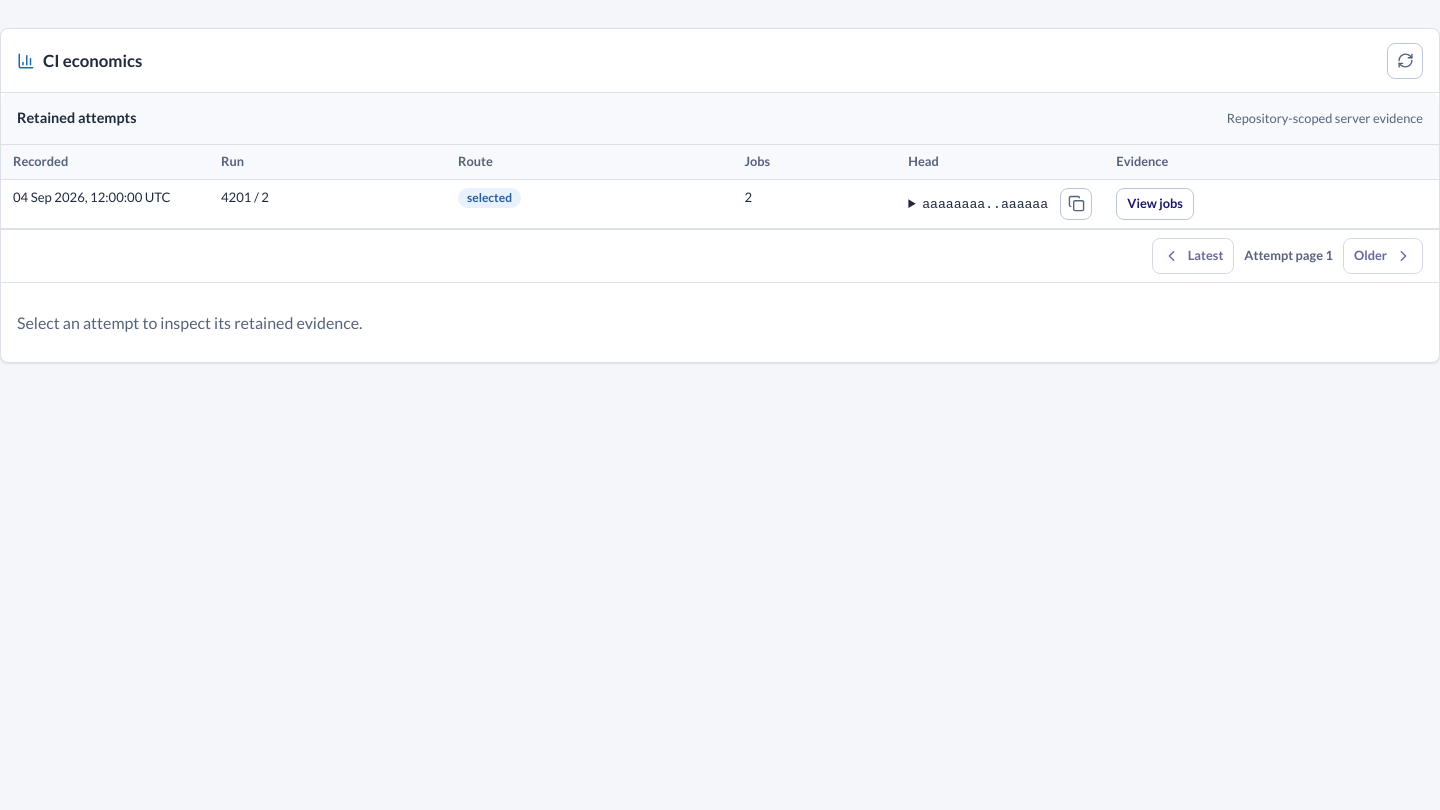
Scenario: shows only server-projected economics and fetches jobs on demand
The width and height of the screenshot is (1440, 810).
Check: the text "Backend tests" is not shown
Click the button with aria-label "View jobs for run 4201" at [1155, 204], box [1116, 188, 1194, 220]
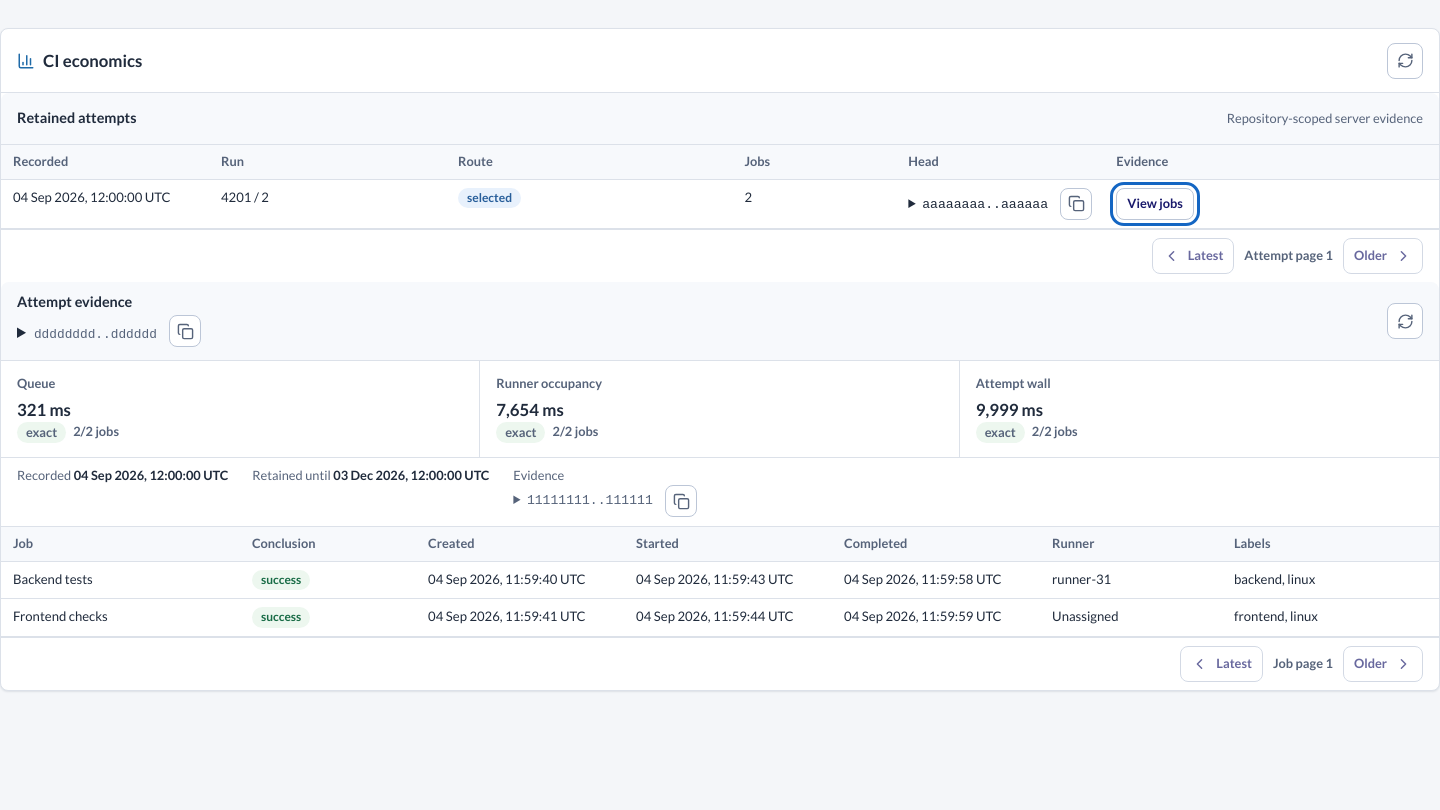
Check: the text "321 ms" is shown, box [17, 399, 71, 420]
Check: the text "7,654 ms" is shown, box [496, 399, 564, 420]
Check: the text "9,999 ms" is shown, box [976, 399, 1043, 420]
